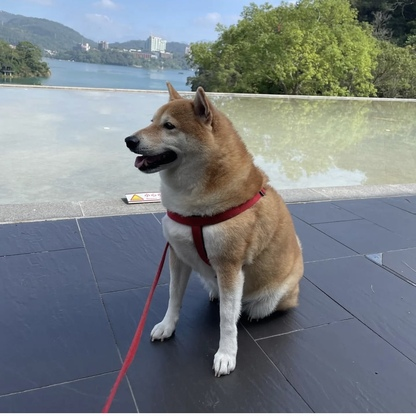akita: (120, 74, 312, 382)
